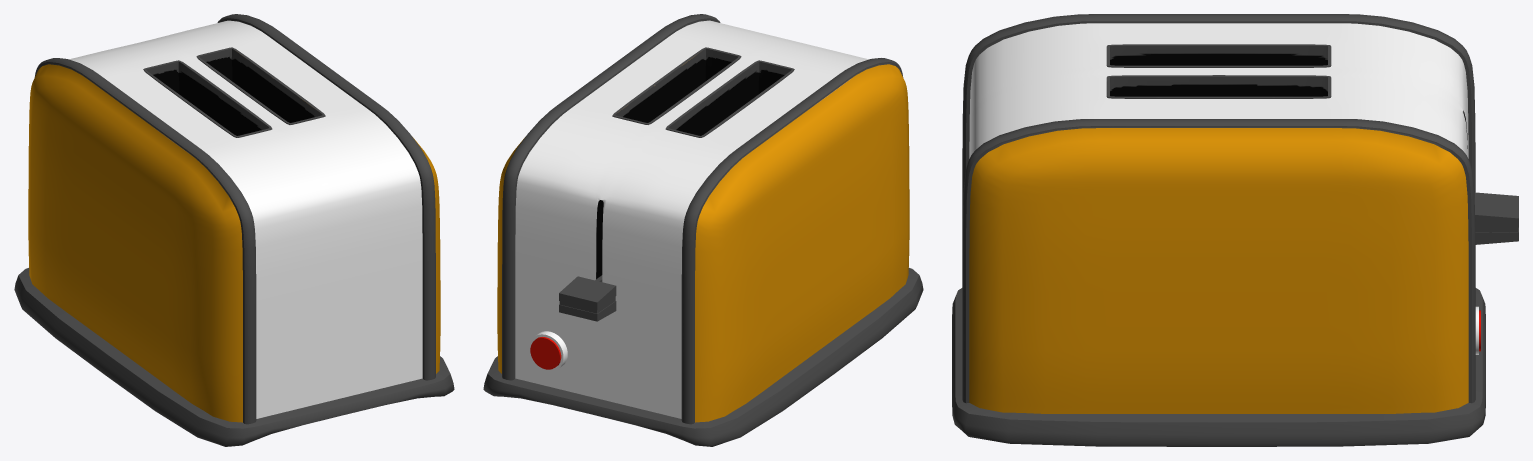
Rendered from tost_down.fbx.
The picture shows the model from 3 angles, left to right: view 1: azimuth 30°, elevation 25°; view 2: azimuth 150°, elevation 25°; view 3: azimuth 270°, elevation 25°; orthographic projection. The views are drawn at different scales.
Parts seen in each view (by area): view 1: Plane; view 2: Plane; view 3: Plane.
Part boxes in pixels (x1=…): Plane: x1=14, y1=14, x2=454, y2=446; Plane: x1=483, y1=14, x2=923, y2=446; Plane: x1=952, y1=14, x2=1518, y2=446.
Size of the model in its own units: 254 by 235 by 399.
